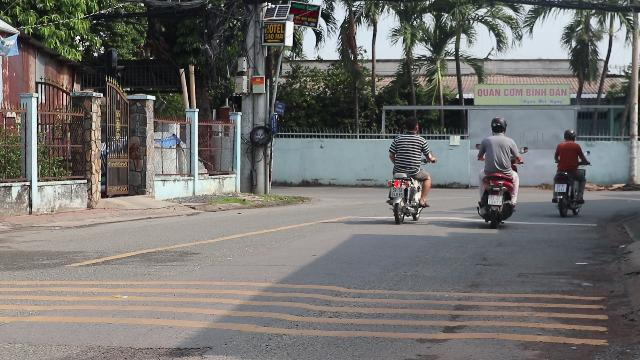helmet: (489, 115, 507, 134)
licenseplate: (488, 195, 502, 205), (391, 188, 404, 196)
motorcyclist: (383, 115, 433, 223), (474, 115, 520, 227)
nohelmet: (404, 115, 421, 132)
